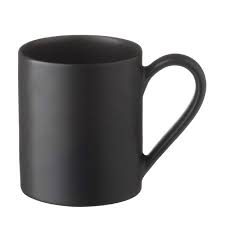mug: (3, 25, 209, 206)
